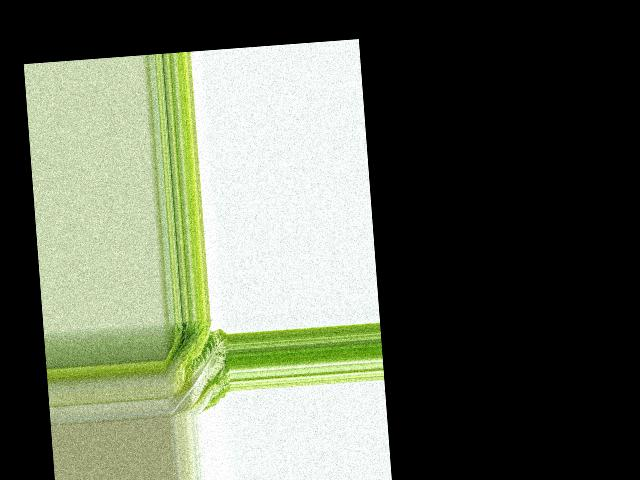lettuce: (162, 317, 231, 417)
